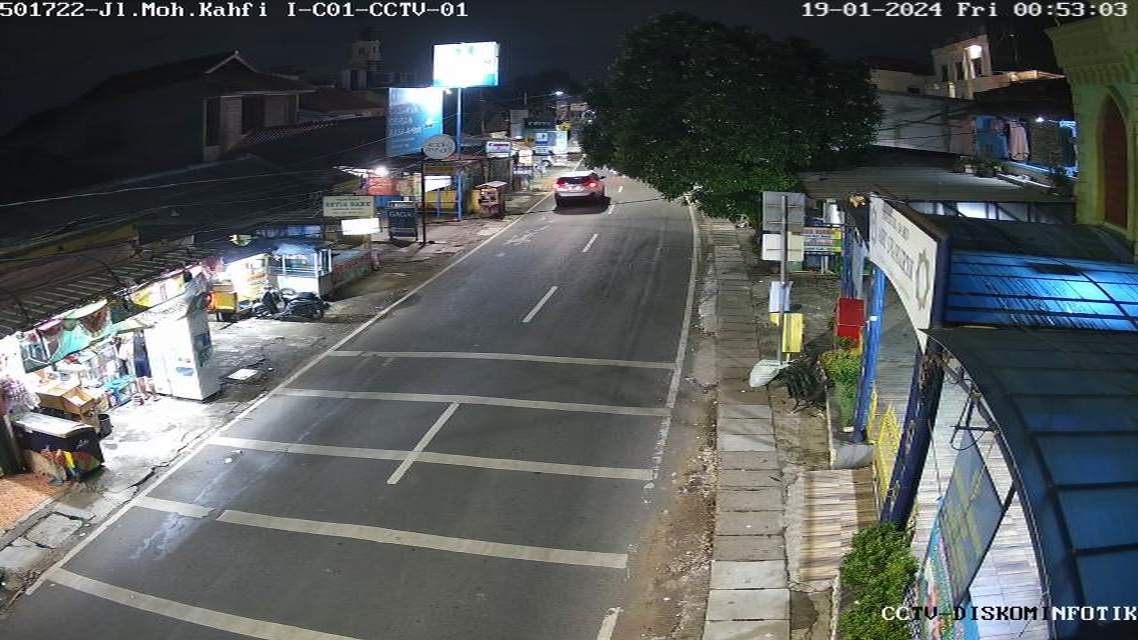Gerobak: (263, 235, 333, 312), (203, 252, 270, 319), (469, 179, 510, 224)
